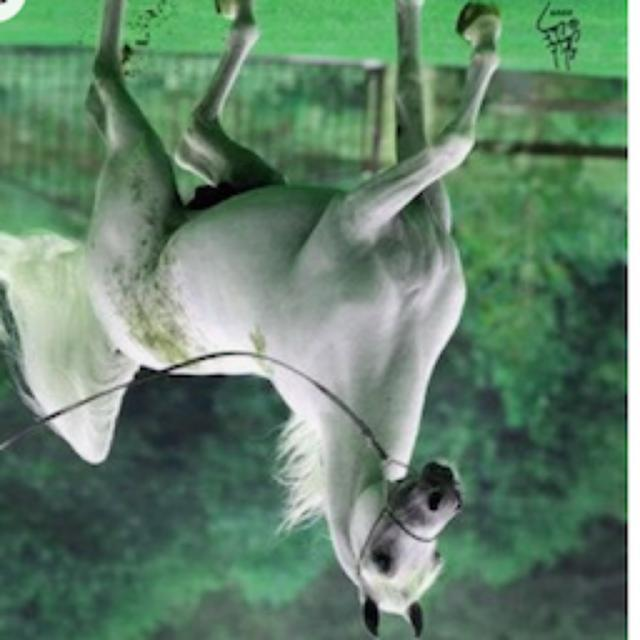Horse: (2, 2, 512, 640)
